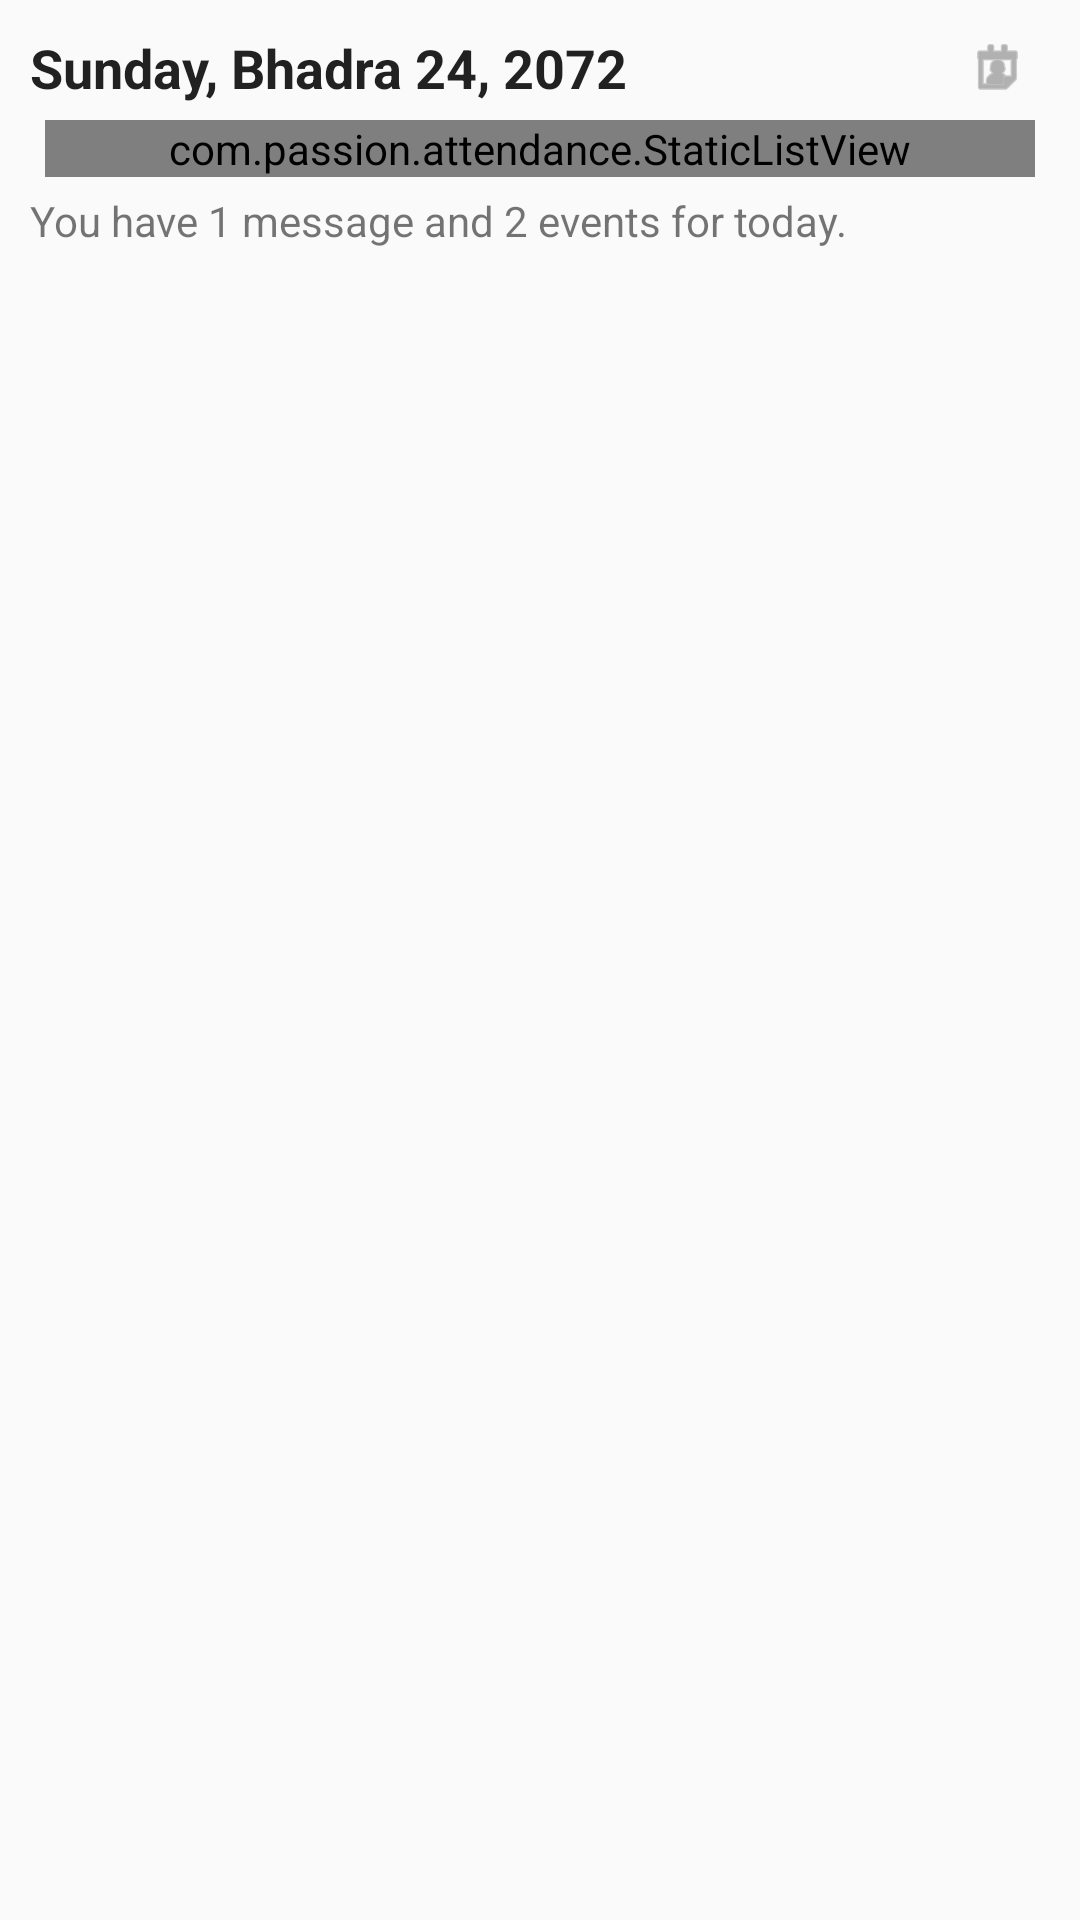

Screen size 1080x1920. Icon name, then its center in pixels as point (x, y):
calendar: point (997, 67)
